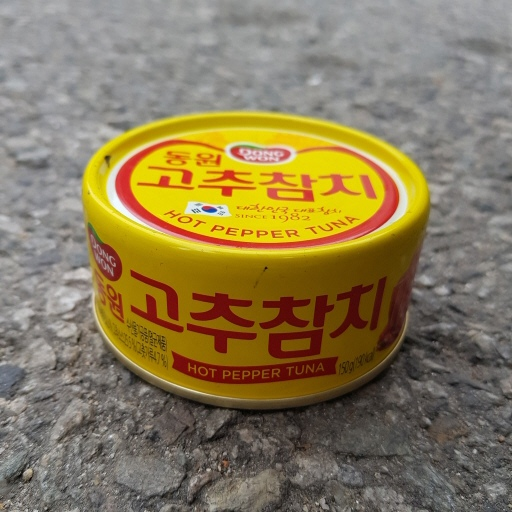Metal_1: (78, 108, 432, 412)
